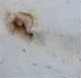Corrosion: (3, 10, 36, 40)
